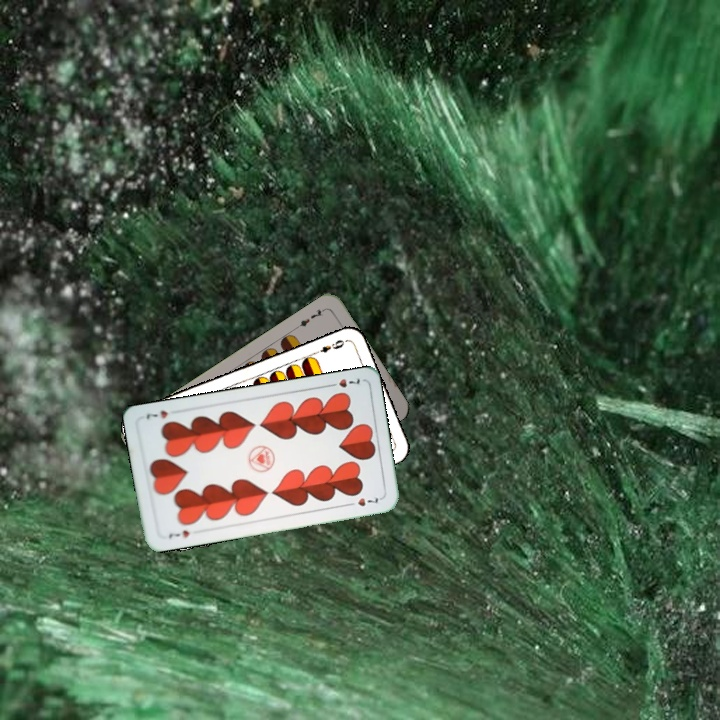E7: (292, 304, 328, 331)
E9: (310, 336, 349, 357)
H7: (324, 374, 363, 390), (165, 526, 192, 541)
